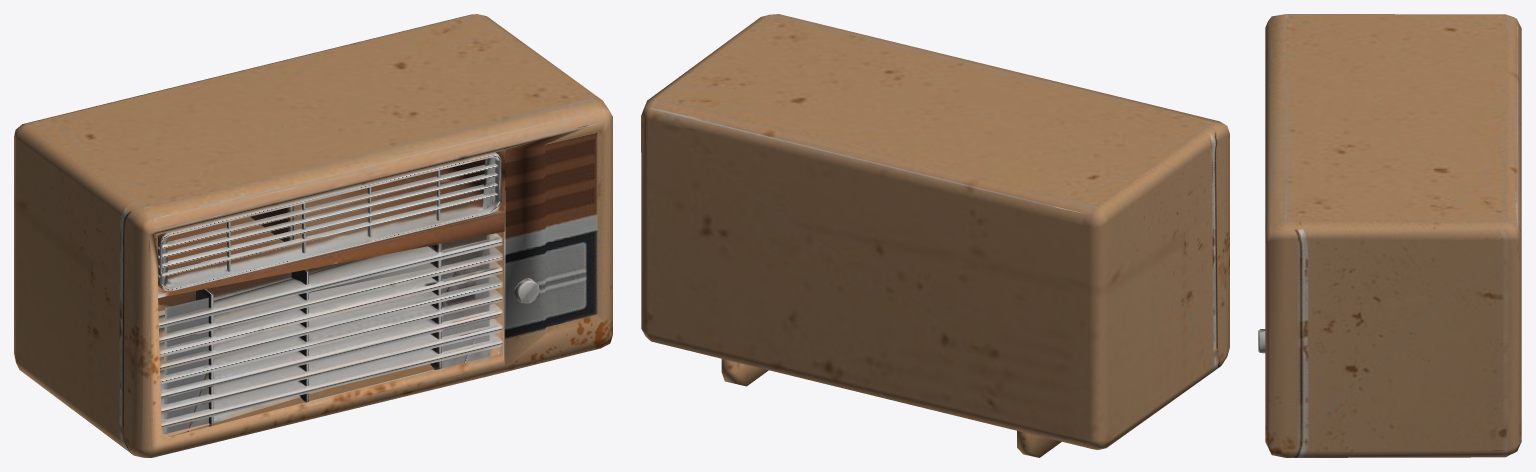
The model's file is ac_vintage.glb.
3 renders of one model, left to right at view 1: azimuth 30°, elevation 25°; view 2: azimuth 150°, elevation 25°; view 3: azimuth 270°, elevation 25°, orthographic. The views are drawn at different scales.
Bounding box in the file's own units: 0.7 × 0.3929 × 0.3546.
1 material, 1 textured.
